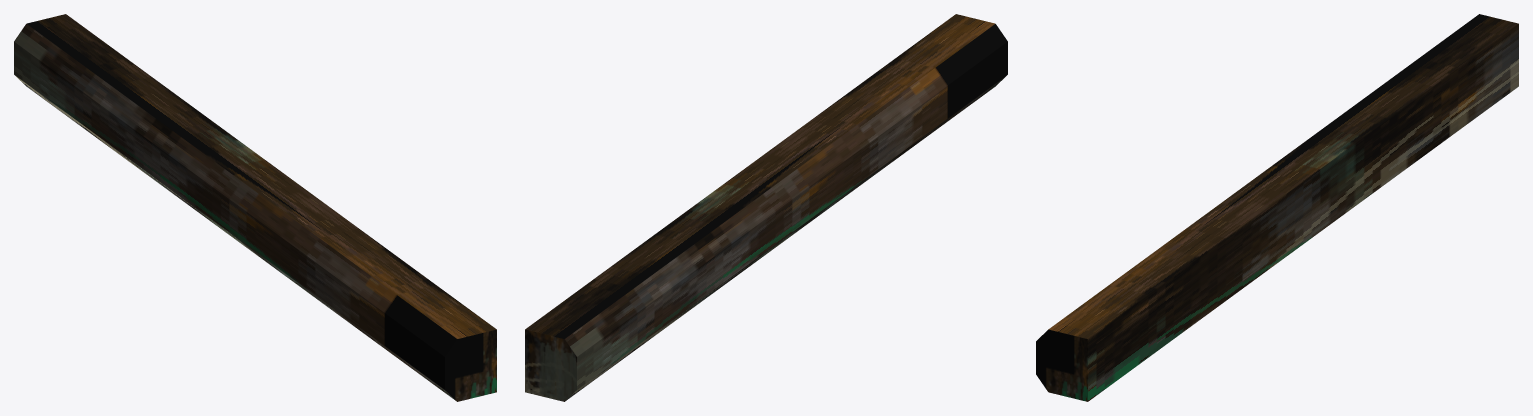
The model's file is SM_rollerspool.fbx.
The picture shows the model from 3 angles, left to right: view 1: azimuth 30°, elevation 25°; view 2: azimuth 150°, elevation 25°; view 3: azimuth 330°, elevation 25°; orthographic projection.
Visible parts, largest first — view 1: SM_rollercore; view 2: SM_rollercore; view 3: SM_rollercore.
Part boxes in pixels (x1,y1,x2,y2): SM_rollercore: [14, 14, 496, 401]; SM_rollercore: [525, 14, 1007, 401]; SM_rollercore: [1036, 14, 1518, 401].
Bounding box in the file's own units: 26.76 × 30.94 × 385.
